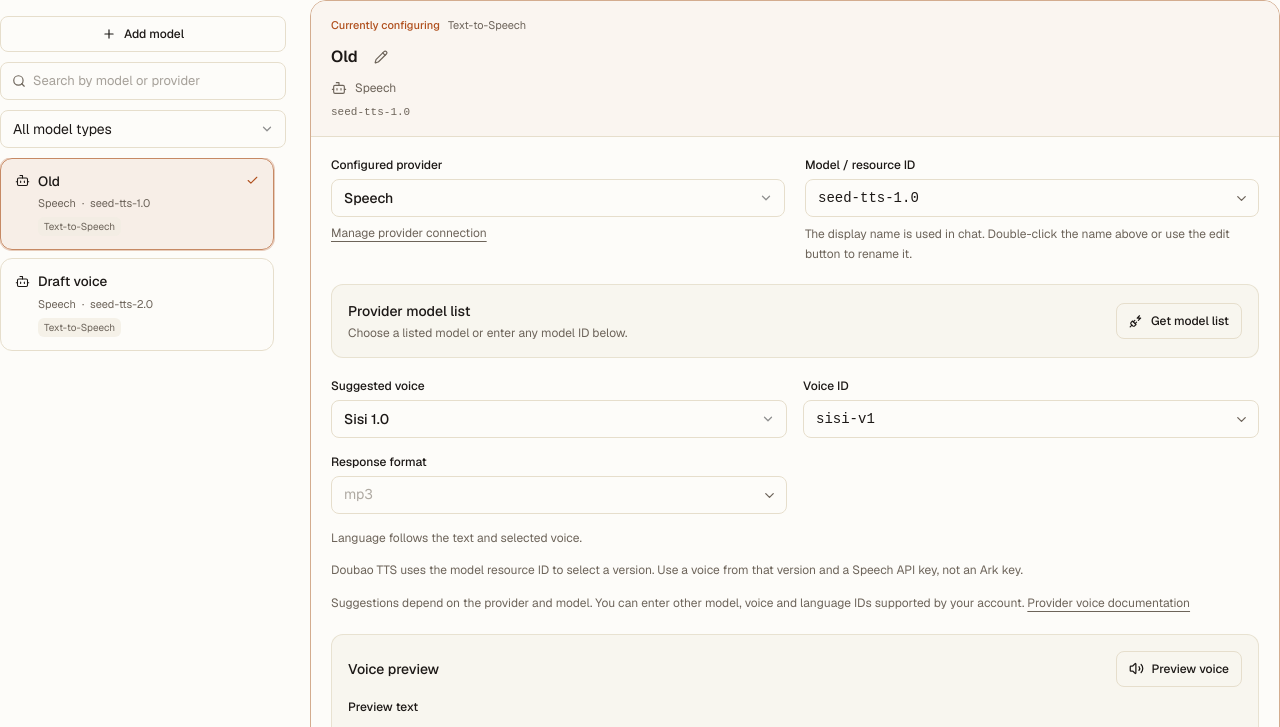
Test: switching model updates an incompatible preset voice and clears unsupported instructions
Click the button "Draft voice Speech · seed-tts-2.0 Text-to-Speech" at [137, 305], box [0, 258, 274, 351]
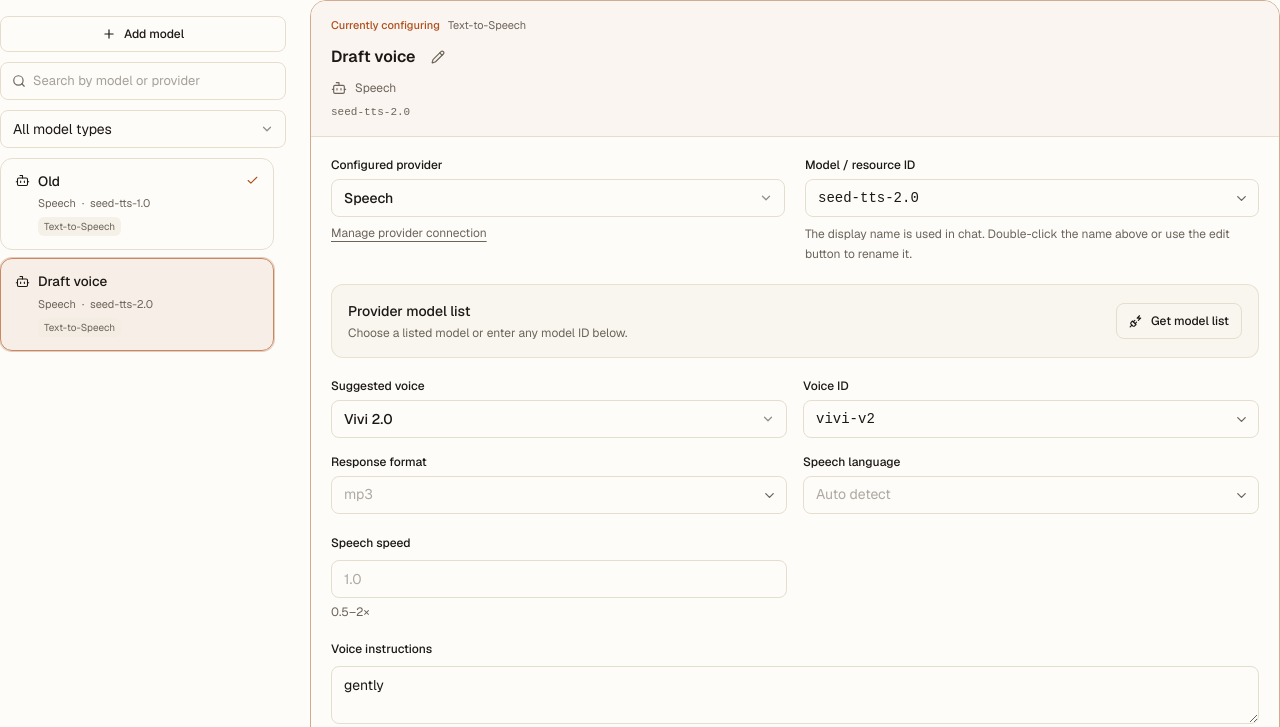
Replace the text in the dropdown labelled "Model / resource ID" with "seed-tts-1.0" at [1032, 198], box [805, 179, 1259, 217]
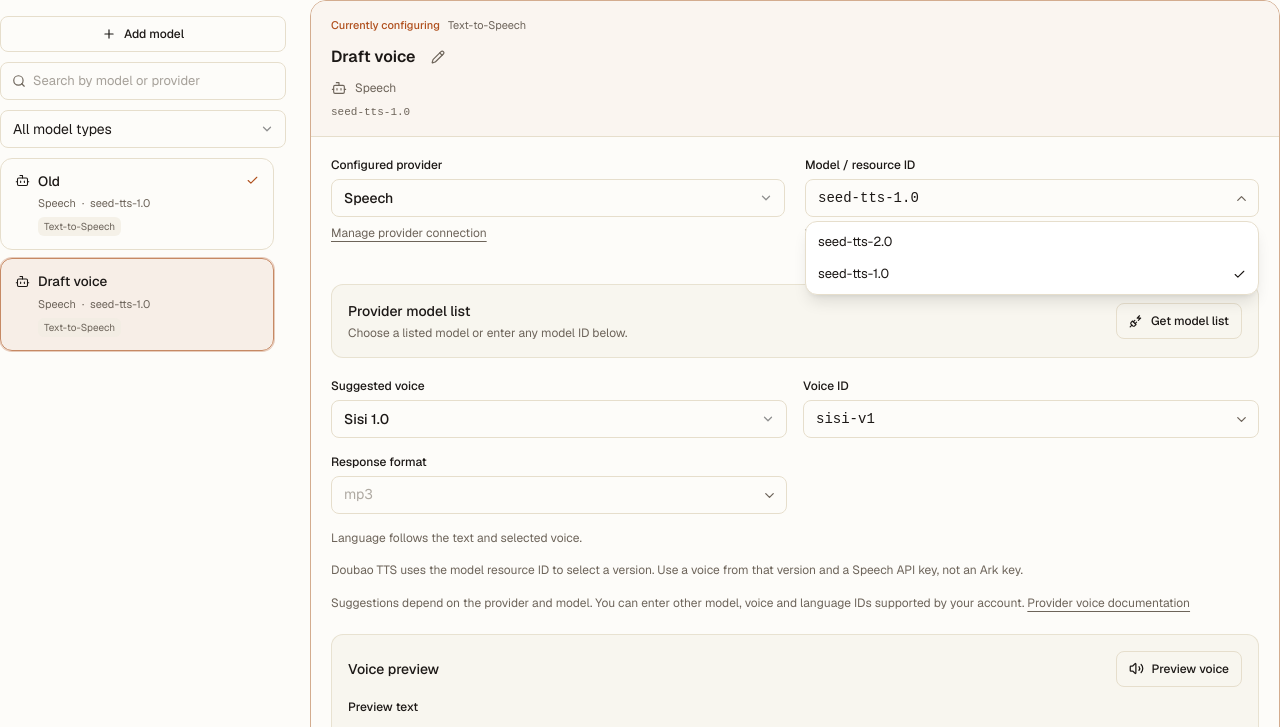
Now the dropdown labelled "Voice ID" holds "sisi-v1", box [803, 400, 1259, 438]
Now the label "Voice instructions" is gone
